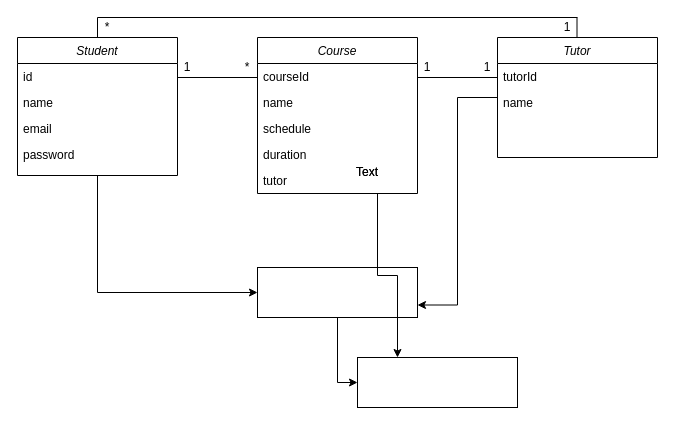
Image size: 675x425. Some labels were removed from this diagram. Each missing label, with the centre of its shape:
"CourseController" goes at (x=337, y=292).
"TutorController" goes at (x=437, y=382).
